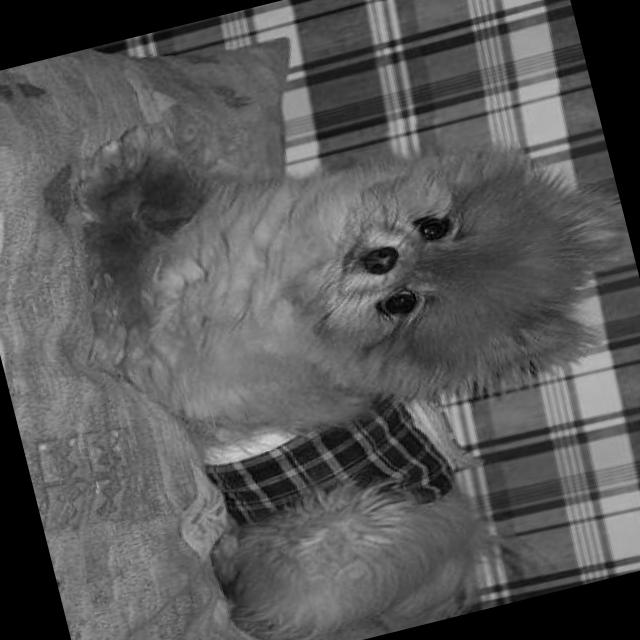laying down: (37, 13, 640, 640)
